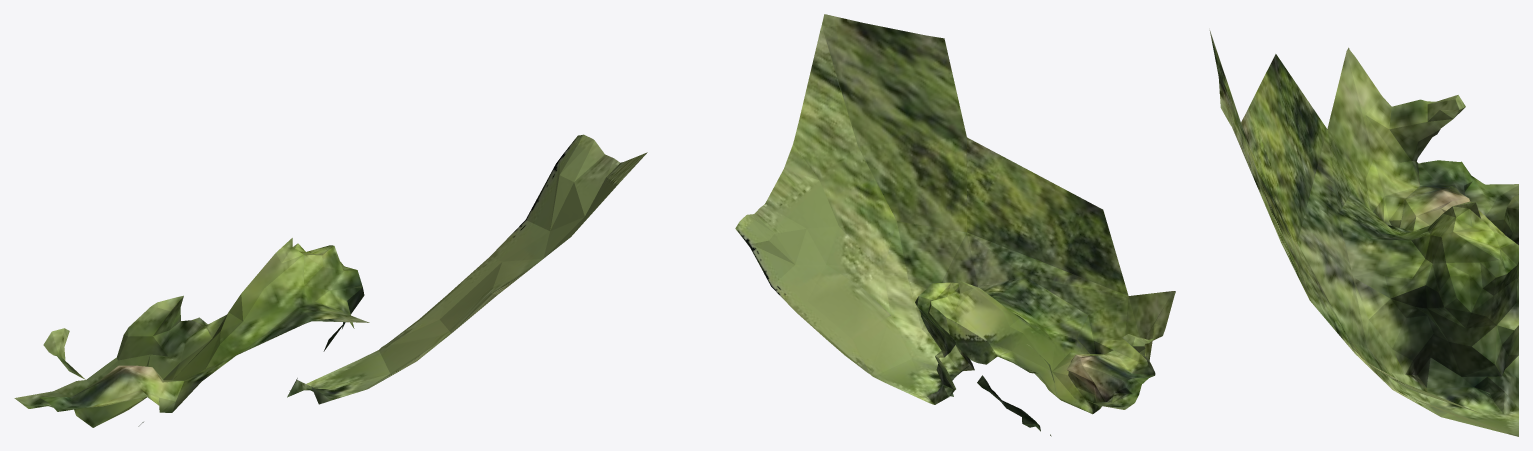
3 views of the same model, side by side, from view 1: azimuth 30°, elevation 25°; view 2: azimuth 150°, elevation 25°; view 3: azimuth 270°, elevation 25° (orthographic). The views are drawn at different scales.
Size of the model in its own units: 52.22 by 35.93 by 21.86.
2 materials, 2 textured.
